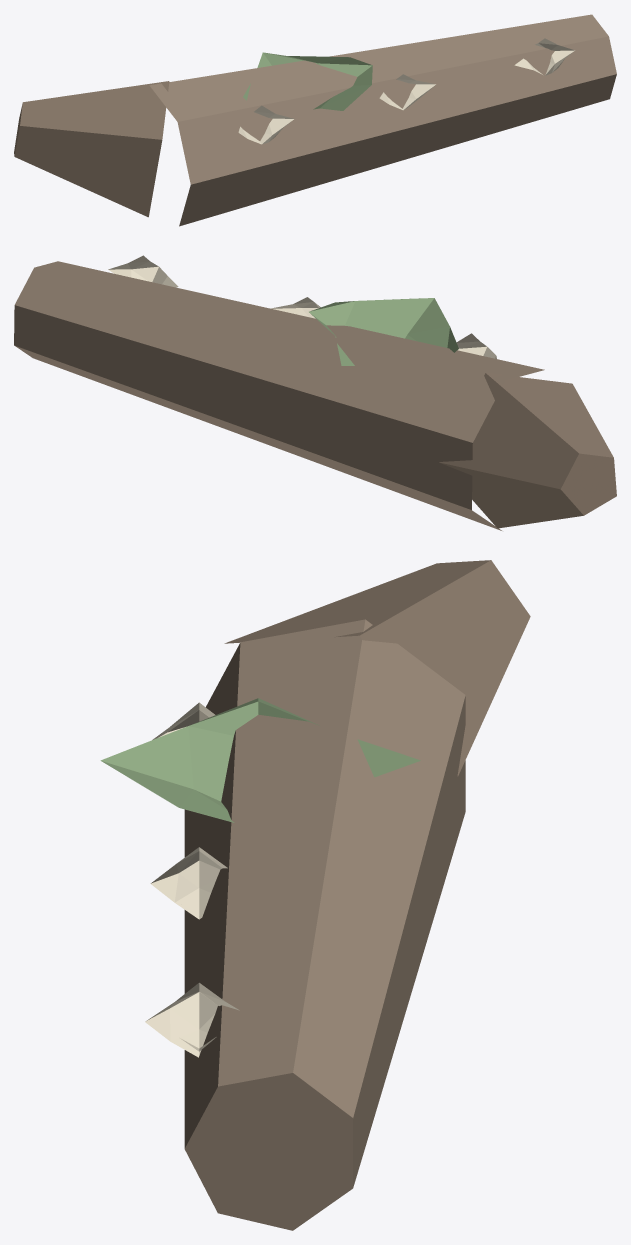
Rendered from log_v19.glb.
3 views of the same model, one above another, from view 1: azimuth 30°, elevation 25°; view 2: azimuth 150°, elevation 25°; view 3: azimuth 270°, elevation 25° (orthographic). The views are drawn at different scales.
Visible parts, largest first — view 1: lod0; view 2: lod0; view 3: lod0.
Boxes of the visible parts, box(x1,y1,x2,y2) form: lod0: box(14, 14, 616, 226); lod0: box(14, 255, 616, 530); lod0: box(100, 560, 530, 1230).
Size of what is drawn, in the model's own units: 2.71 by 0.7076 by 0.9304.
